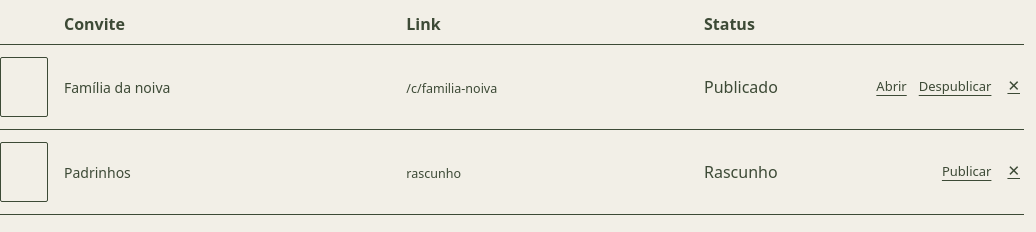
SC-005: publicar muda a linha inteira, sem sair da aba › despublicar devolve a linha ao rascunho
Click the button "Despublicar" at (955, 87), box x1=919 y1=77 x2=991 y2=97
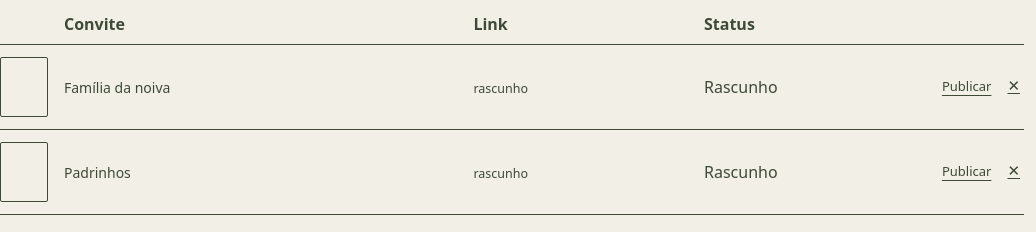
Check: the row "Família da noiva rascunho Rascunho Publicar ✕" is shown, box x1=0 y1=44 x2=1024 y2=130
